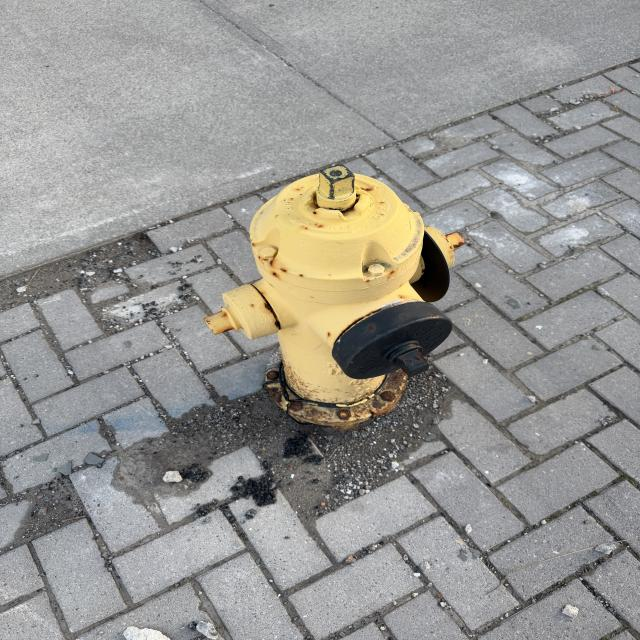Fire hydrant: (203, 164, 466, 430)
